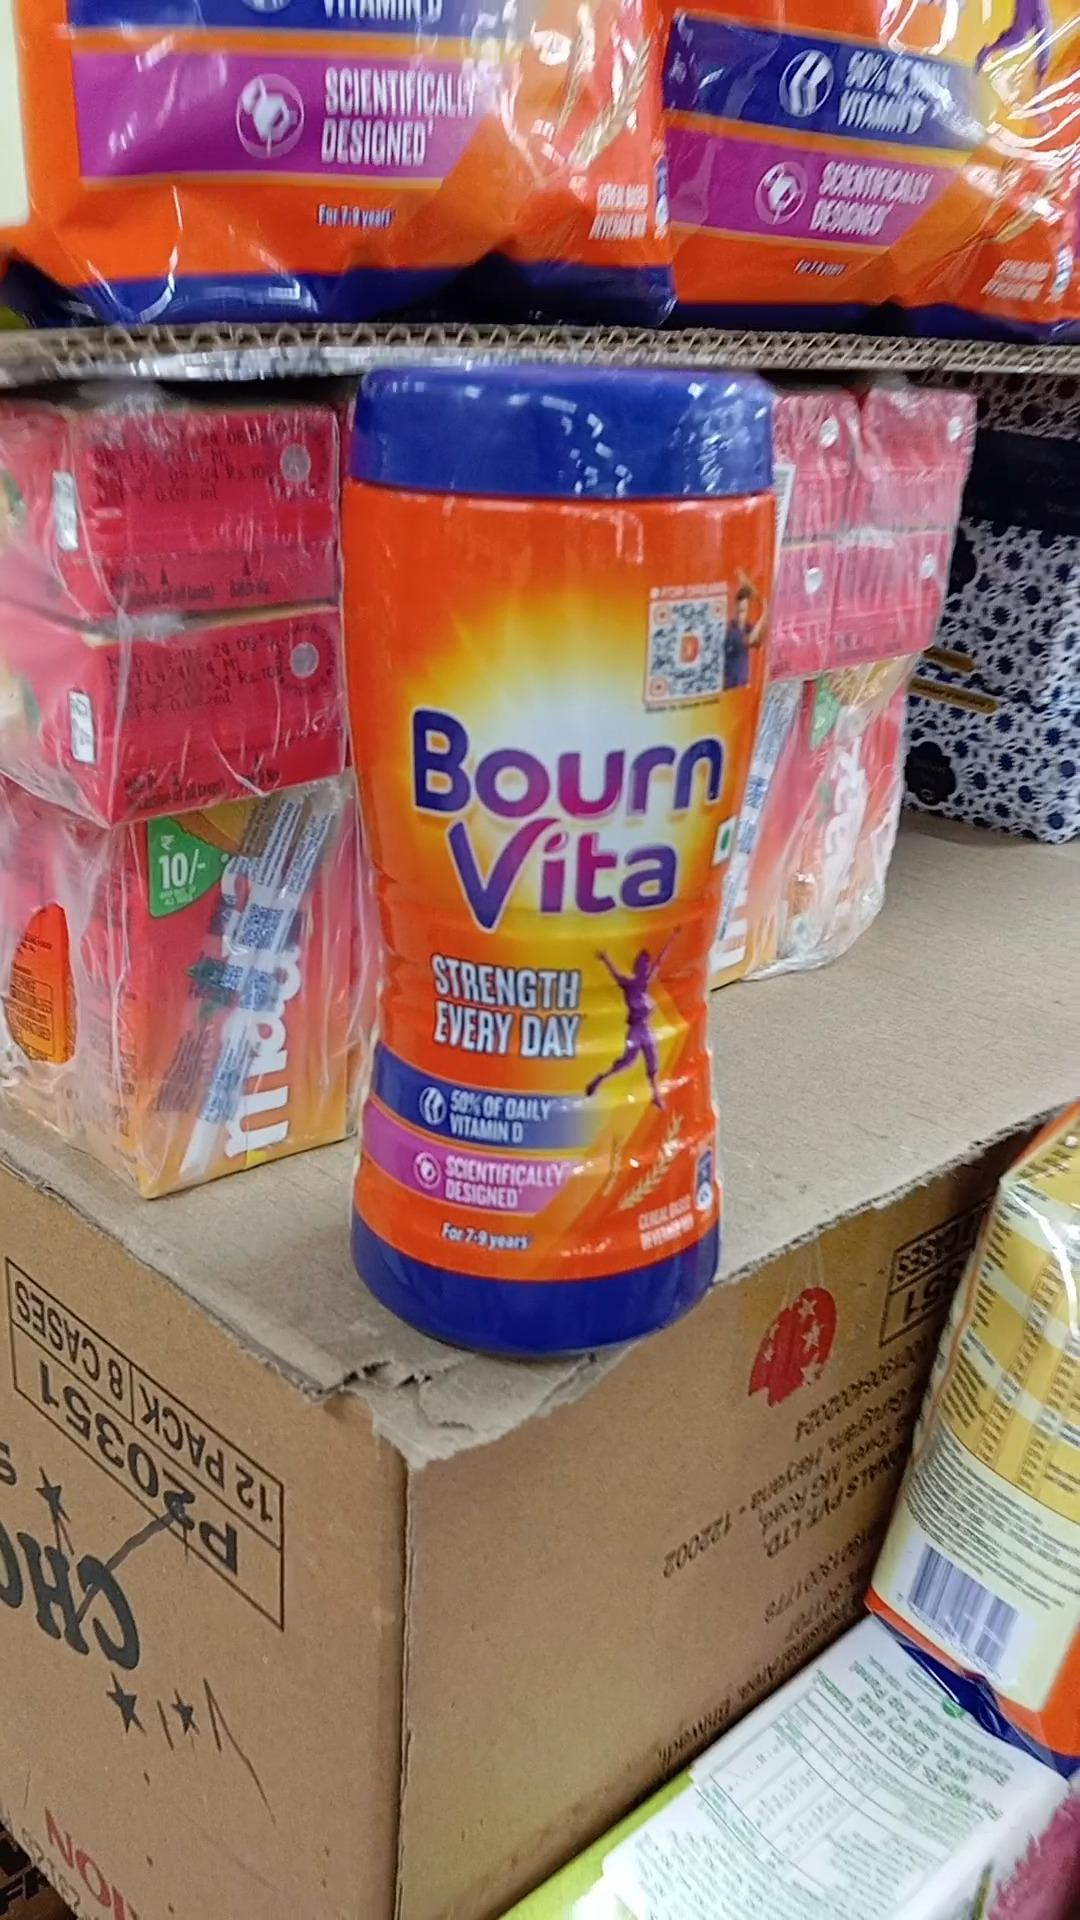BOURN_VITA_200_G_JAR: (335, 335, 740, 1340)
